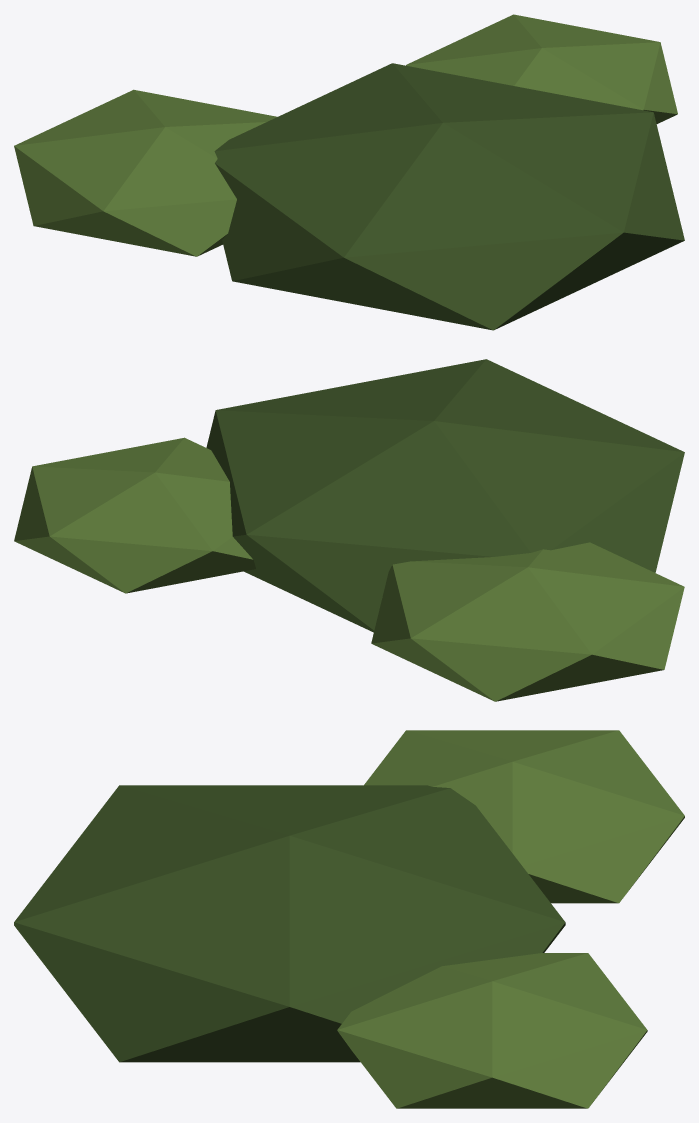
File: deco_moss.glb
The picture shows the model from 3 angles, top to bottom: view 1: azimuth 30°, elevation 25°; view 2: azimuth 150°, elevation 25°; view 3: azimuth 270°, elevation 25°; orthographic projection. The views are drawn at different scales.
Parts seen in each view (by area): view 1: clump0, clump2, clump1; view 2: clump0, clump2, clump1; view 3: clump0, clump1, clump2.
Part boxes in pixels (x1,y1,x2,y2): clump0: [214, 63, 684, 330]; clump2: [14, 89, 277, 256]; clump1: [406, 14, 677, 123]; clump0: [206, 359, 684, 632]; clump2: [371, 542, 684, 701]; clump1: [14, 437, 255, 593]; clump0: [14, 785, 565, 1062]; clump1: [337, 953, 647, 1108]; clump2: [364, 730, 684, 903].
Size of the model in its own units: 0.8399 by 0.192 by 0.6623.
